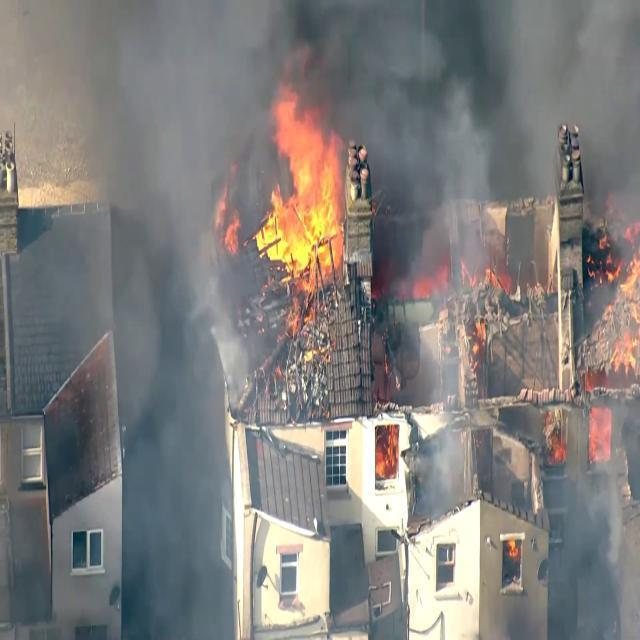Fire: (247, 82, 372, 299), (592, 247, 638, 386)
Smoke: (422, 0, 640, 175)
